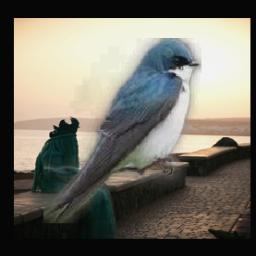Swallow: (44, 39, 202, 224)
